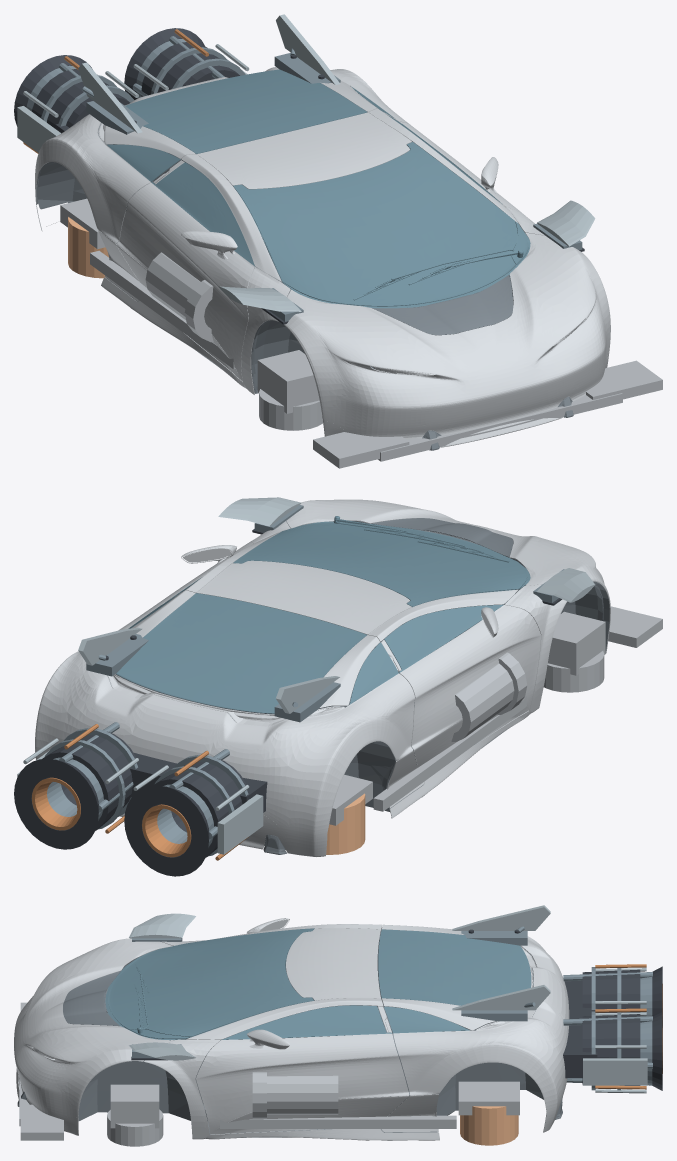
File: preview_street_stage02.glb
3 renders of one model, top to bottom at view 1: azimuth 30°, elevation 25°; view 2: azimuth 150°, elevation 25°; view 3: azimuth 270°, elevation 25°, orthographic. The views are drawn at different scales.
Parts seen in each view (by area): view 1: DONOR_BodyHood, DONOR_BodyWindshield, DONOR_BodyRearwindow, DONOR_BodyRoofPanel, DONOR_BodyRearPanelsColor1, DONOR_BodyDoorRColor1, DONOR_BodyPillars, DONOR_BodyHoodTopgrill, DONOR_BodyDoorRWindow, DONOR_BodyPanelsColor2, DONOR_BodyUnderside, INSTALLED_front_lift_port_FRONT_LIFT_MOUNT (+24 smaller); view 2: DONOR_BodyRearPanelsColor1, DONOR_BodyRearwindow, DONOR_BodyWindshield, DONOR_BodyDoorRColor1, DONOR_BodyRoofPanel, DONOR_BodyHood, DONOR_BodyPillars, STAGE02_rear_engine_ENGINE_-1_RECESSED_BELL, STAGE02_rear_engine_ENGINE_1_RECESSED_BELL, DONOR_BodyPanelsColor2, DONOR_BodyDoorRWindow, INSTALLED_side_intakes_0_SIDE_INTAKE_BORE_-1 (+31 smaller); view 3: DONOR_BodyWindshield, DONOR_BodyRearPanelsColor1, DONOR_BodyHood, DONOR_BodyDoorLColor1, DONOR_BodyRearwindow, DONOR_BodyRoofPanel, DONOR_BodyUnderside, DONOR_BodyPillars, DONOR_BodyPanelsColor2, DONOR_BodyDoorLWindow, INSTALLED_side_intakes_0_SIDE_INTAKE_BORE_1, INSTALLED_side_skirts_0_ROCKER_BLADE_1 (+26 smaller).
Part boxes in pixels (left/top/right/bottom): DONOR_BodyHood: left=278, top=232, right=610, bottom=439; DONOR_BodyWindshield: left=233, top=142, right=517, bottom=306; DONOR_BodyRearwindow: left=125, top=69, right=367, bottom=154; DONOR_BodyRoofPanel: left=197, top=112, right=411, bottom=189; DONOR_BodyRearPanelsColor1: left=35, top=67, right=408, bottom=243; DONOR_BodyDoorRColor1: left=116, top=182, right=254, bottom=380; DONOR_BodyPillars: left=181, top=108, right=545, bottom=394; DONOR_BodyHoodTopgrill: left=372, top=275, right=513, bottom=335; DONOR_BodyDoorRWindow: left=156, top=162, right=254, bottom=264; DONOR_BodyPanelsColor2: left=36, top=205, right=609, bottom=447; DONOR_BodyUnderside: left=37, top=162, right=304, bottom=393; INSTALLED_front_lift_port_FRONT_LIFT_MOUNT: left=257, top=350, right=319, bottom=413; DONOR_BodyRearPanelsColor1: left=35, top=590, right=414, bottom=835; DONOR_BodyRearwindow: left=116, top=593, right=366, bottom=713; DONOR_BodyWindshield: left=233, top=523, right=527, bottom=606; DONOR_BodyDoorRColor1: left=399, top=605, right=540, bottom=749; DONOR_BodyRoofPanel: left=197, top=560, right=411, bottom=634; DONOR_BodyHood: left=286, top=499, right=610, bottom=630; DONOR_BodyPillars: left=184, top=521, right=567, bottom=713; STAGE02_rear_engine_ENGINE_-1_RECESSED_BELL: left=124, top=785, right=209, bottom=876; STAGE02_rear_engine_ENGINE_1_RECESSED_BELL: left=14, top=758, right=99, bottom=849; DONOR_BodyPanelsColor2: left=120, top=630, right=609, bottom=856; DONOR_BodyDoorRWindow: left=384, top=605, right=500, bottom=669; INSTALLED_side_intakes_0_SIDE_INTAKE_BORE_-1: left=451, top=663, right=514, bottom=741; DONOR_BodyWindshield: left=108, top=928, right=314, bottom=1036; DONOR_BodyRearPanelsColor1: left=382, top=924, right=569, bottom=1112; DONOR_BodyHood: left=14, top=938, right=173, bottom=1119; DONOR_BodyDoorLColor1: left=196, top=1033, right=409, bottom=1134; DONOR_BodyRearwindow: left=378, top=929, right=531, bottom=1005; DONOR_BodyRoofPanel: left=286, top=928, right=380, bottom=1000; DONOR_BodyUnderside: left=78, top=1060, right=562, bottom=1120; DONOR_BodyPillars: left=144, top=924, right=383, bottom=1139; DONOR_BodyPanelsColor2: left=16, top=1069, right=567, bottom=1140; DONOR_BodyDoorLWindow: left=224, top=1005, right=386, bottom=1038; INSTALLED_side_intakes_0_SIDE_INTAKE_BORE_1: left=267, top=1075, right=338, bottom=1114; INSTALLED_side_skirts_0_ROCKER_BLADE_1: left=220, top=1115, right=456, bottom=1128.
Size of the model in its own units: 2.62 by 1.22 by 5.08.
